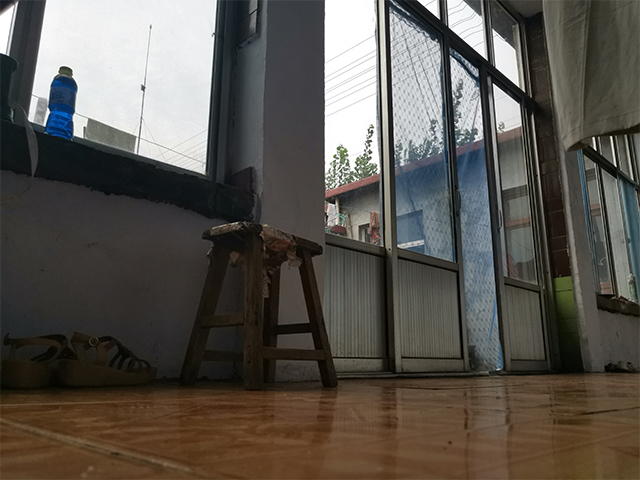stool: (176, 218, 340, 392)
